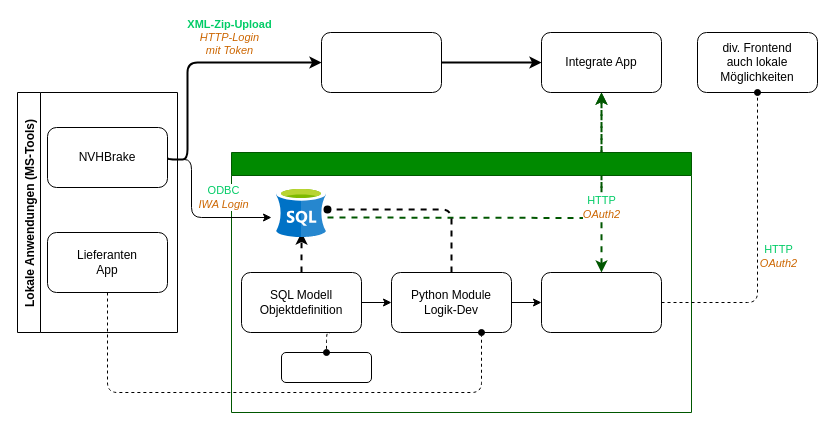
Some shapes in this 835 by 430 pixel diagram are drawn without their labels. The box of each missing label's shape, as (x1, y1, x2, y2) in pixels:
(ASAM ATFX): (280, 352, 372, 382)
(CAE-Bench): (320, 32, 442, 92)
Backend Devlopment (AMI): (230, 152, 692, 412)
FastAPI Endpoints: (540, 272, 662, 332)
